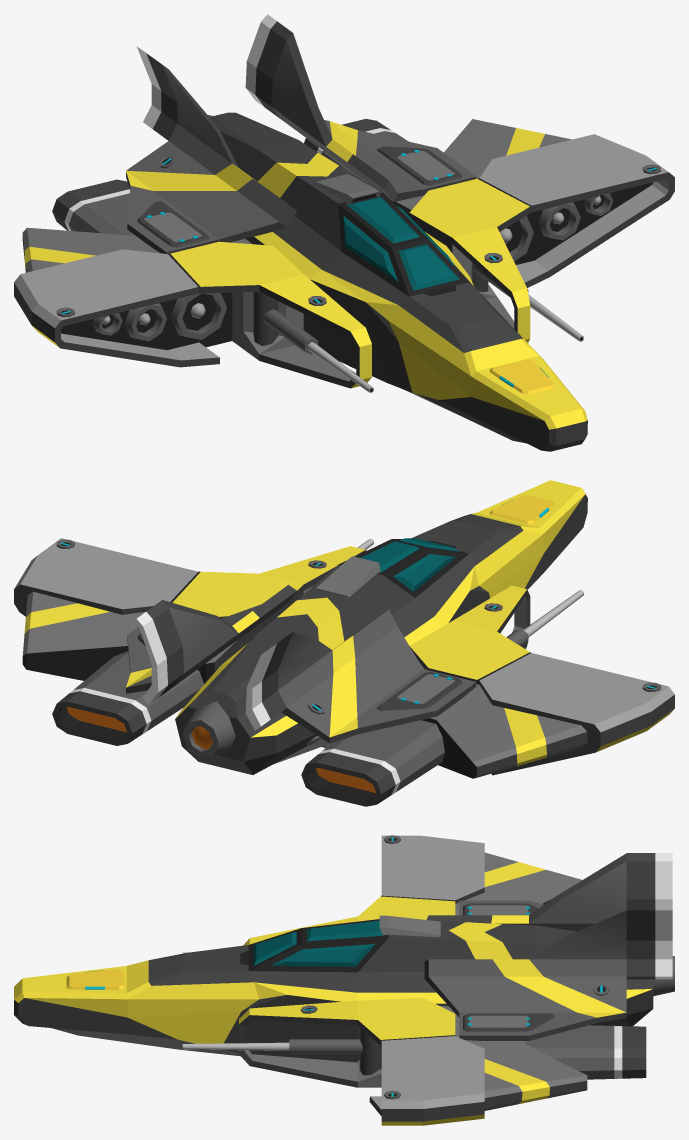
File: starship_002.fbx
3 views of the same model, one above another, from view 1: azimuth 30°, elevation 25°; view 2: azimuth 150°, elevation 25°; view 3: azimuth 270°, elevation 25° (orthographic). The views are drawn at different scales.
Parts seen in each view (by area): view 1: starship_002; view 2: starship_002; view 3: starship_002.
Part boxes in pixels (x1,y1,x2,y2): starship_002: [14, 14, 674, 451]; starship_002: [14, 480, 674, 806]; starship_002: [14, 835, 674, 1125].
Size of the model in its own units: 1395 by 1442 by 396.
